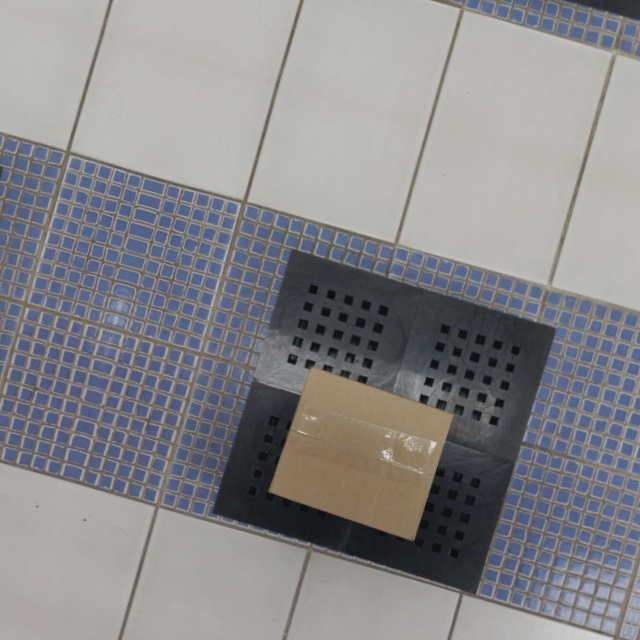box: (262, 365, 458, 546)
pallet: (204, 241, 565, 601)
